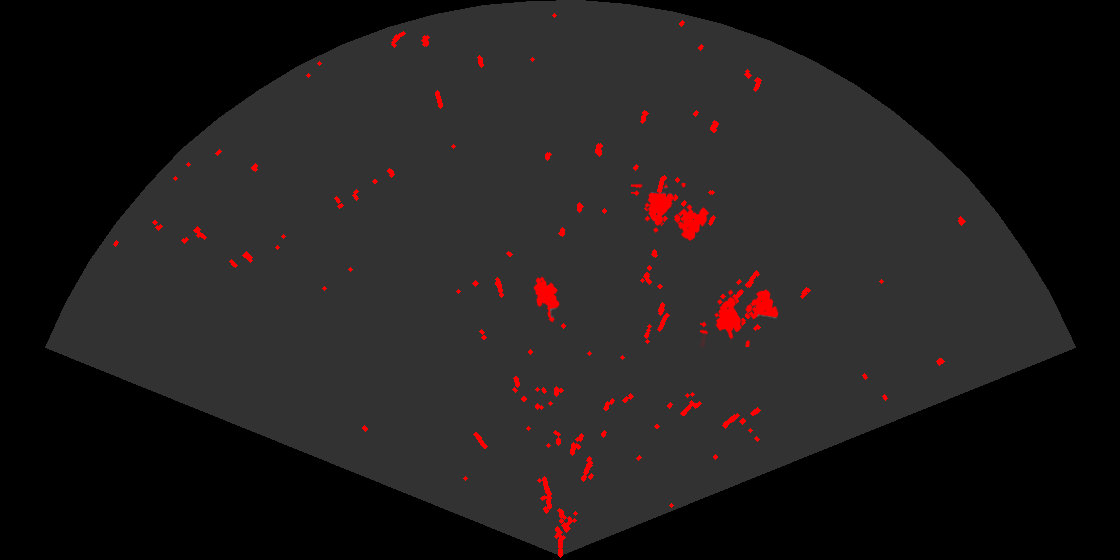AUV: (532, 275, 561, 324)
cage: (631, 183, 711, 242), (700, 288, 780, 347)
